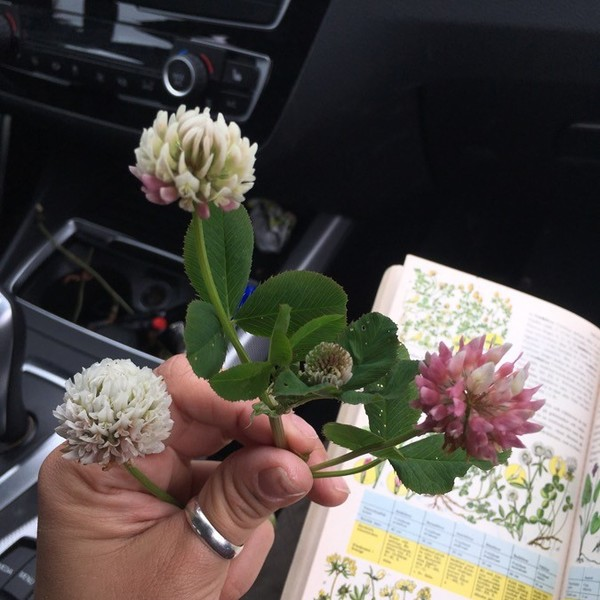obstacle: (113, 118, 531, 480)
